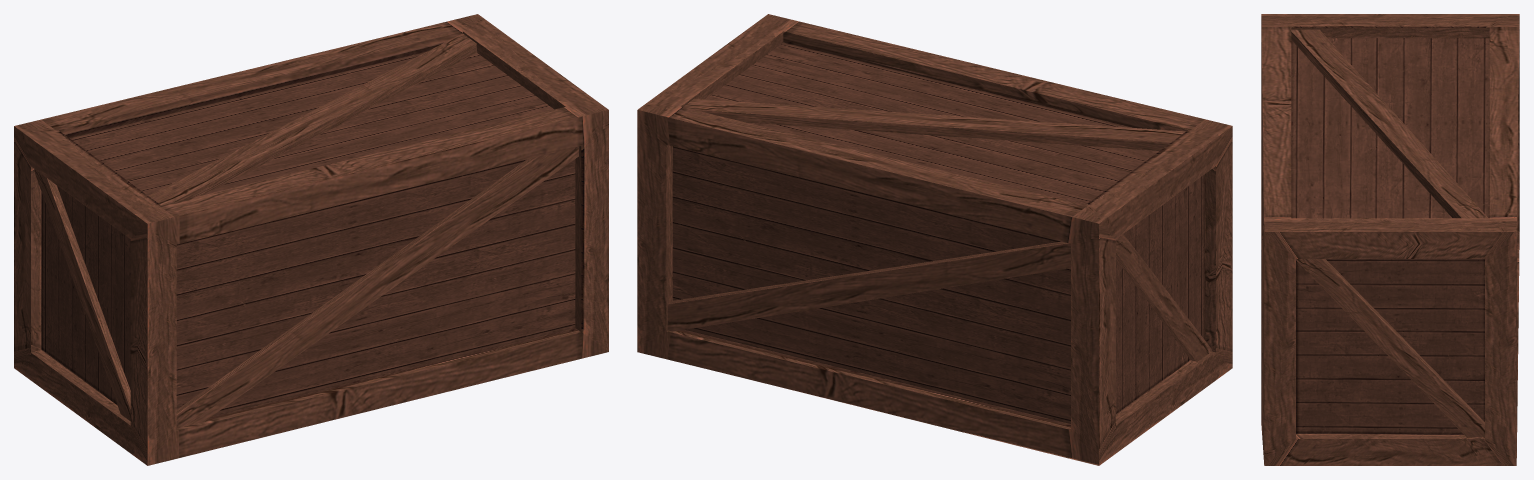
Rendered from ExProps2_NarrowCrate.fbx.
3 renders of one model, left to right at view 1: azimuth 30°, elevation 25°; view 2: azimuth 150°, elevation 25°; view 3: azimuth 270°, elevation 25°, orthographic. The views are drawn at different scales.
Parts seen in each view (by area): view 1: Crate; view 2: Crate; view 3: Crate.
Part boxes in pixels (left/top/right/bottom): Crate: left=14, top=14, right=608, bottom=465; Crate: left=637, top=14, right=1232, bottom=465; Crate: left=1261, top=14, right=1519, bottom=465.
Size of what is drawn, in the model's own units: 400 by 200 by 200.
Materials: 1 (1 with a texture image).
